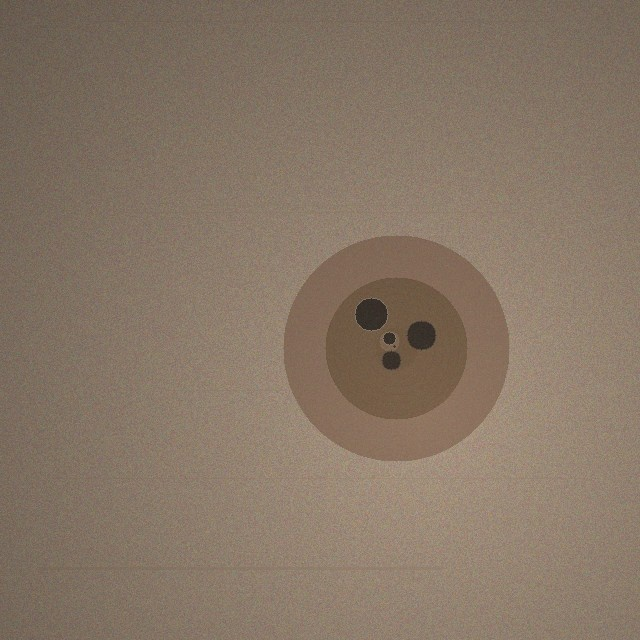shrinkage: (283, 235, 509, 461)
